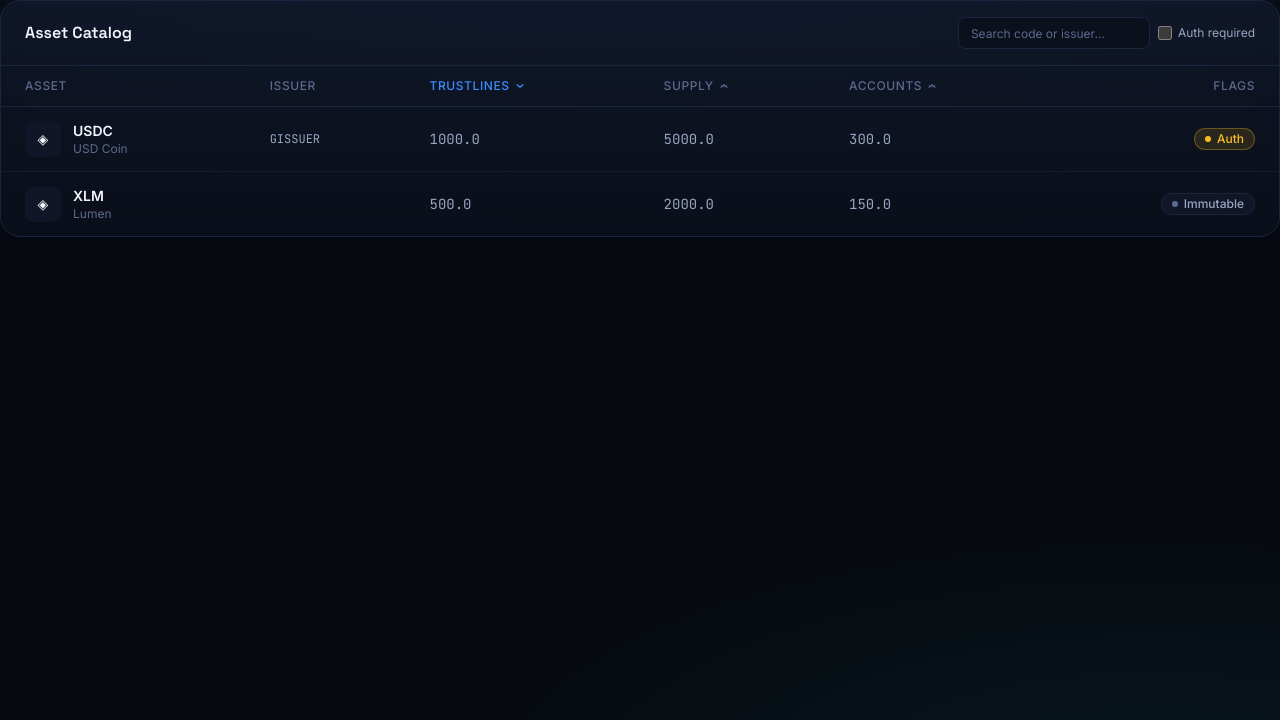
it: AssetBrowser › filters by auth-required flag
Click the checkbox: (1165, 33) 1158,26 -> 1172,40
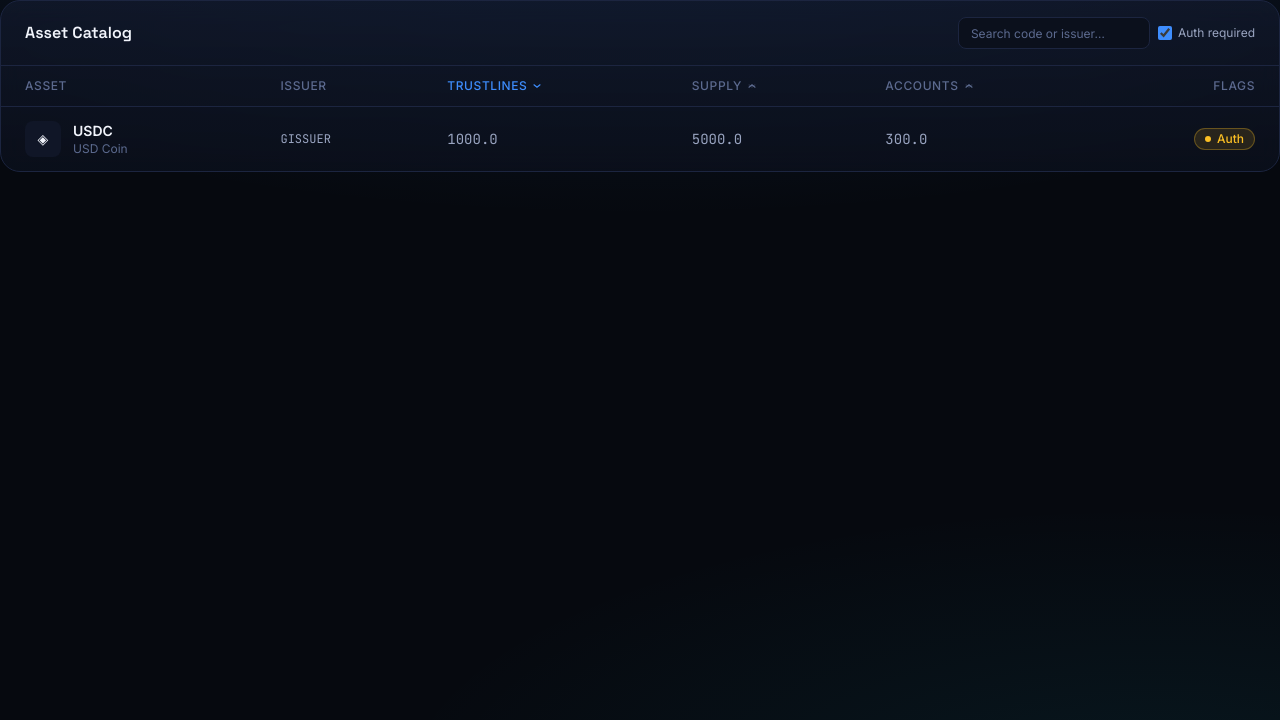
Expected: the text "USD Coin" is shown, 73,141 -> 128,157
Result: the text "Lumen" is gone
